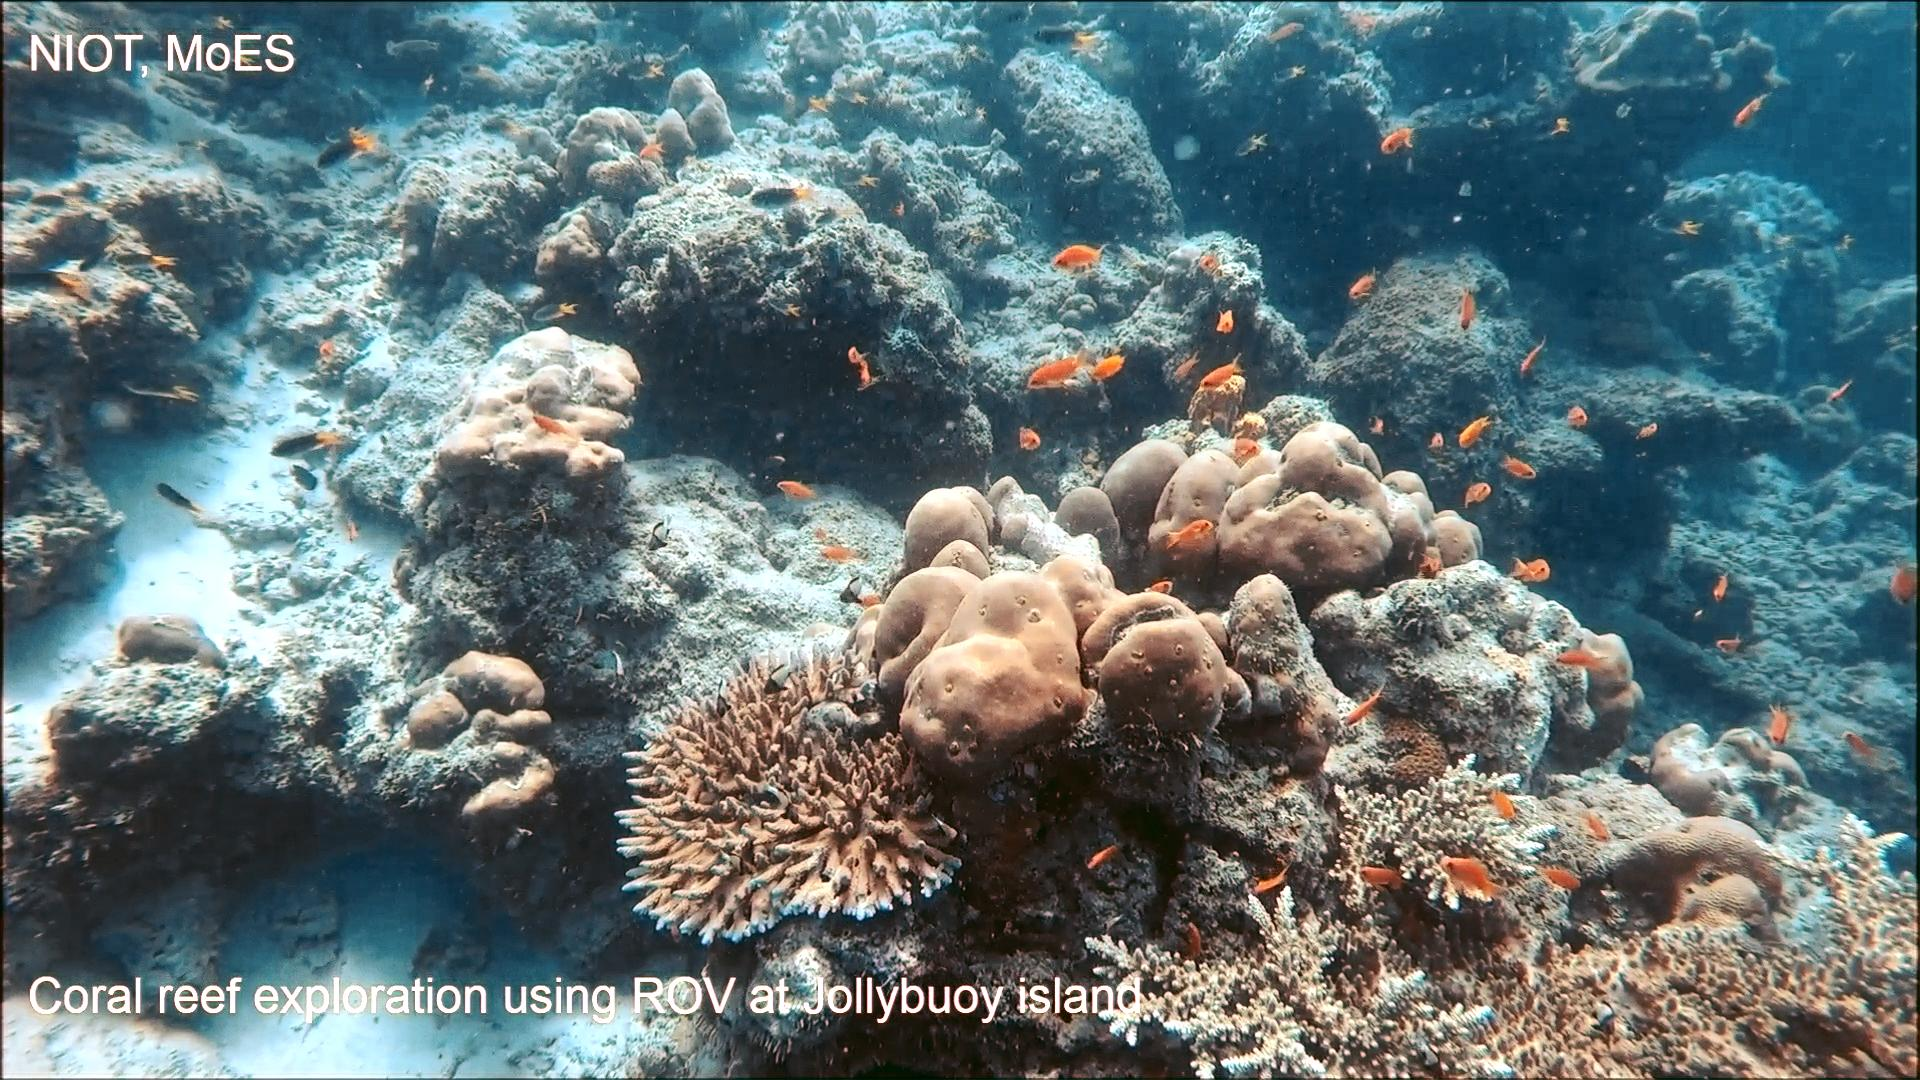Porites-Porites pukoensis: (847, 475, 1258, 798), (1091, 413, 1493, 591)
